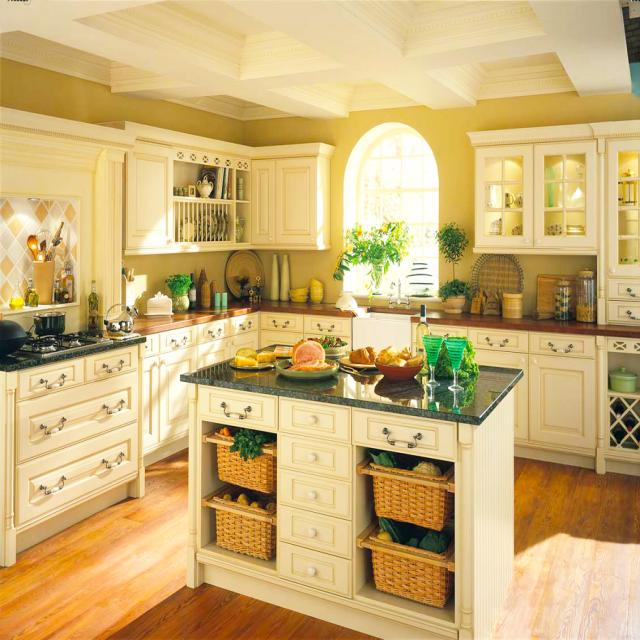Appliance_Sink: (353, 313, 410, 350), (389, 274, 408, 305)
Cabinet_Glass: (466, 120, 640, 281)
Cabinet_Raised_Panel: (0, 313, 351, 570), (198, 386, 460, 598), (427, 324, 600, 467), (251, 156, 318, 244), (132, 144, 173, 250), (608, 278, 640, 324)
Countertop_Granite: (178, 362, 522, 425), (0, 339, 144, 372)
Countertop_Wood: (129, 300, 358, 334), (408, 313, 640, 338)
